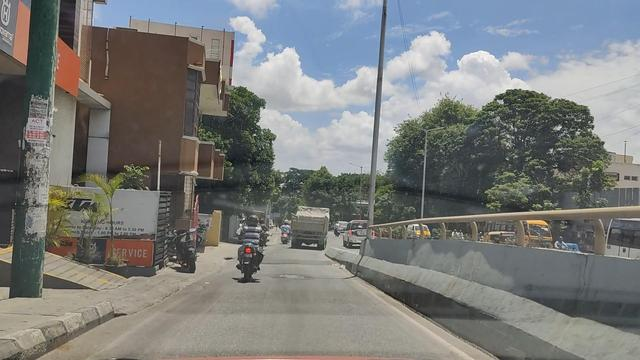HMV: (281, 206, 329, 259)
LMV: (171, 226, 206, 277)
RoadDamages: (271, 265, 315, 287)
